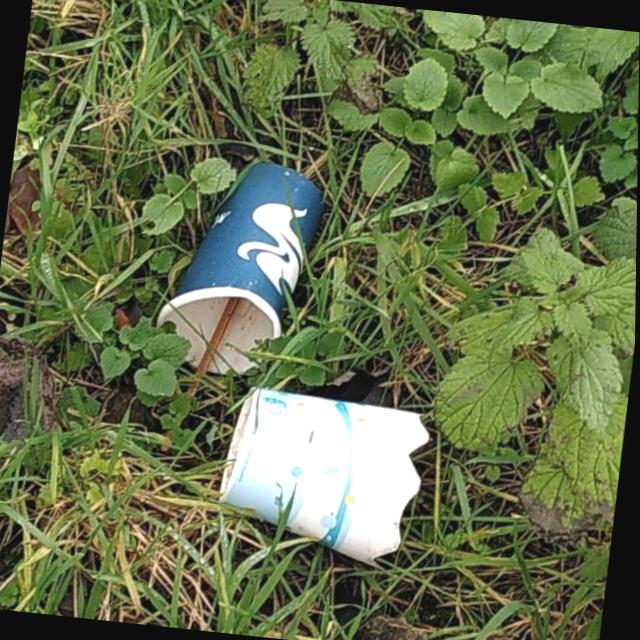Cup: (147, 150, 330, 388)
Paper: (210, 382, 436, 576)
